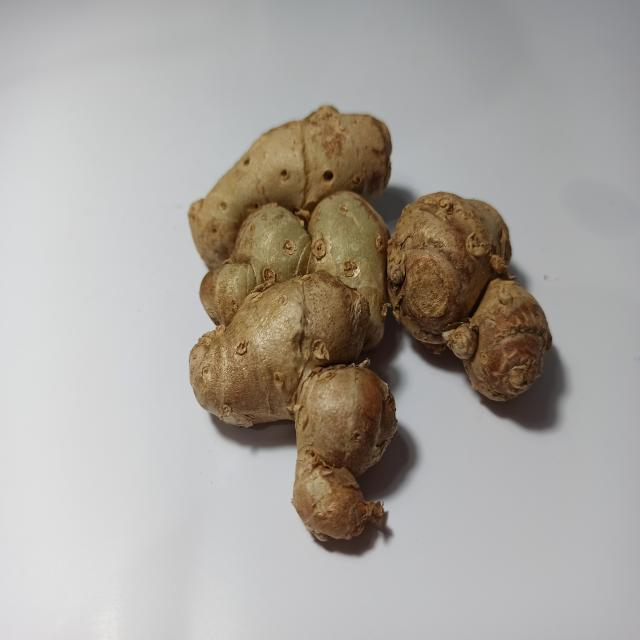ginger: (190, 127, 546, 523)
